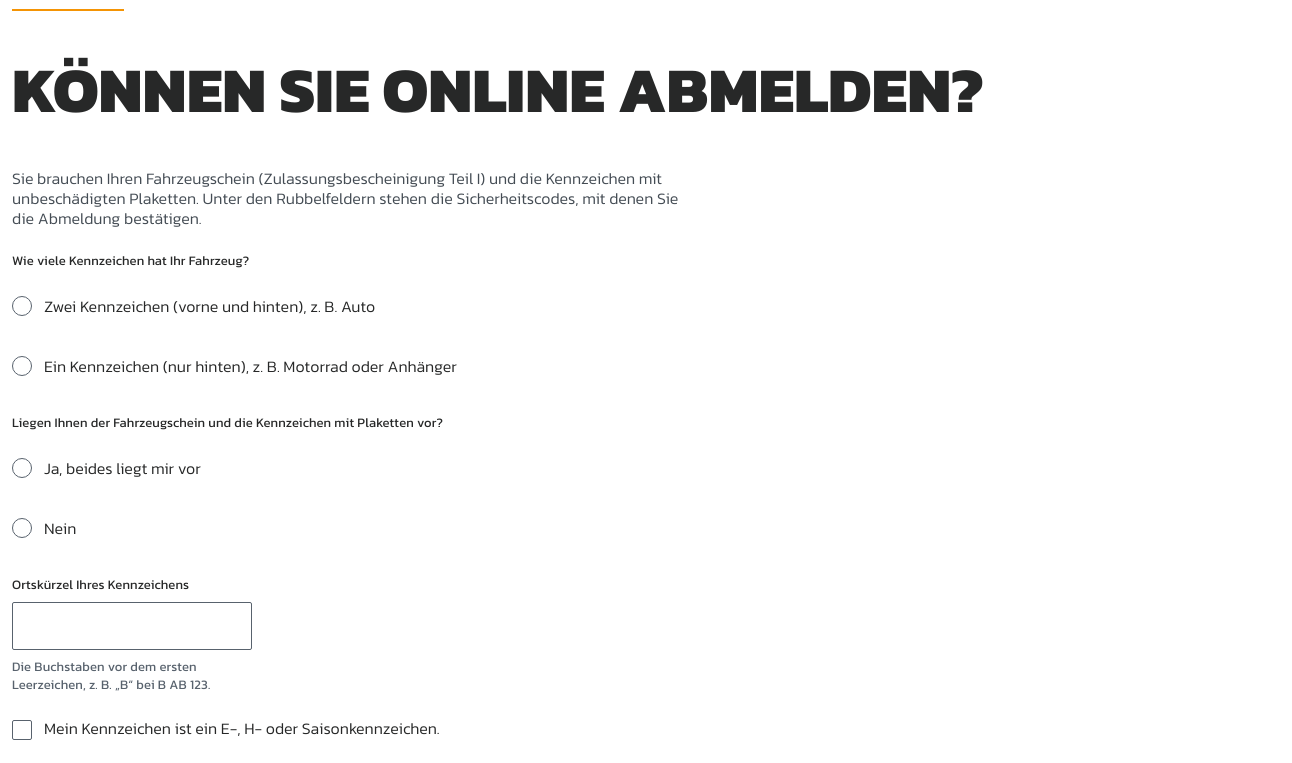
Test: de-registration funnel › eligibility › J11, a special plate › does not stop the customer: it is a warning, not a gate
Click the 1st radio button named "Zwei Kennzeichen" at (22, 306), box [12, 296, 32, 316]
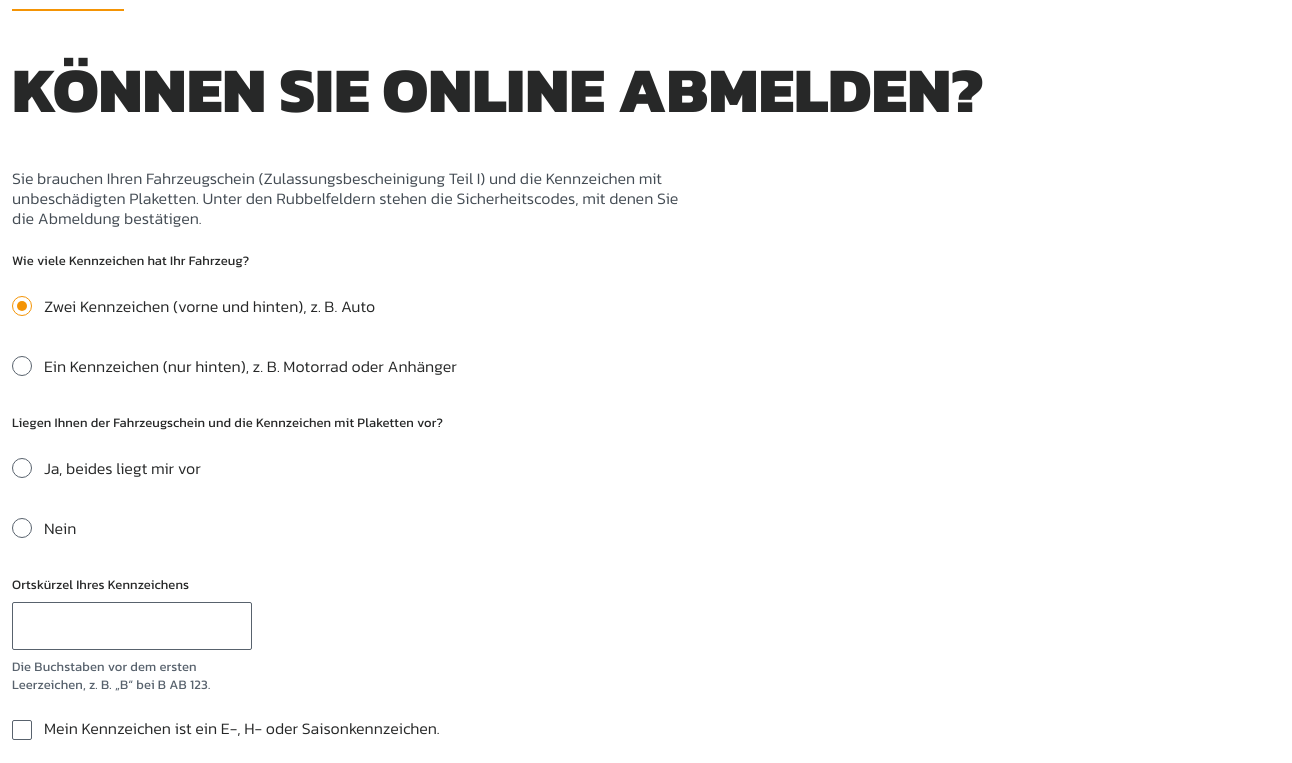
Click the radio button named "Ja, beides liegt mir vor" next to "Ja, beides liegt mir vor" at (22, 468), box [12, 458, 32, 478]
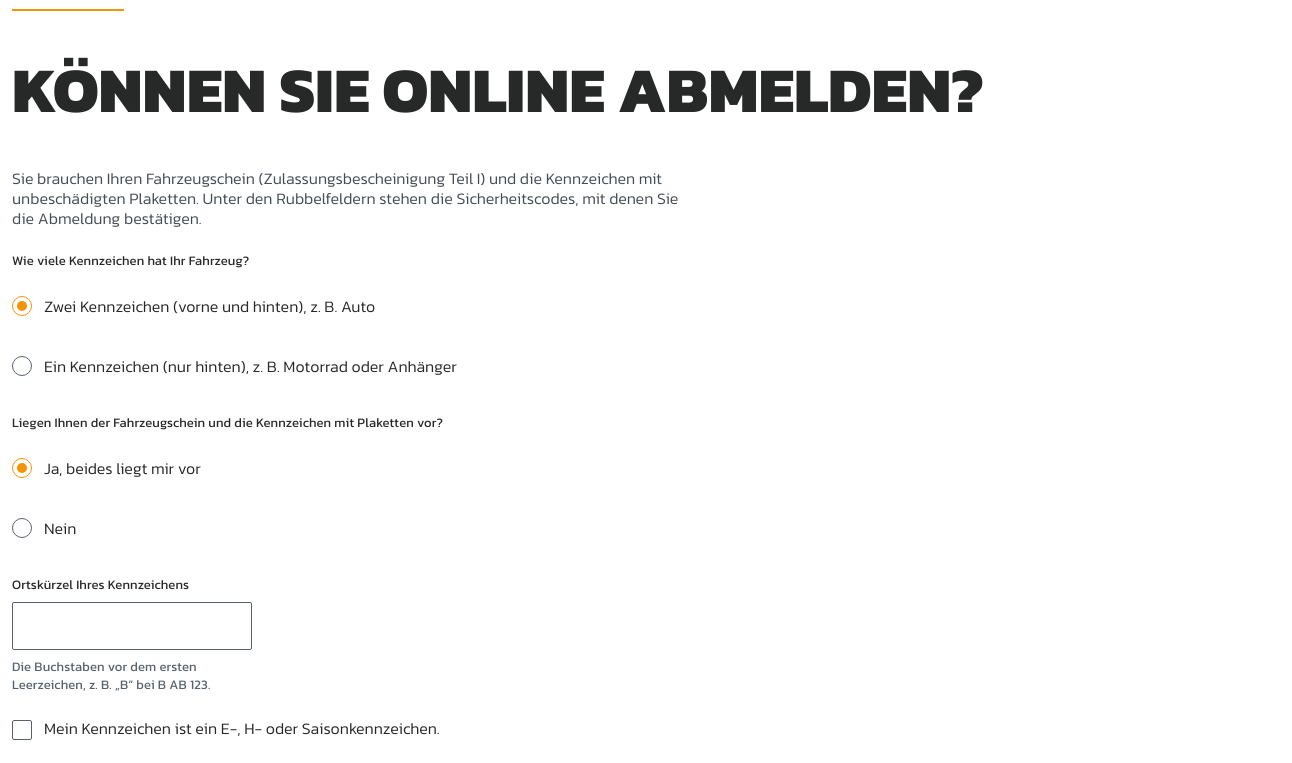
Type "AAA" into the field labelled "Ortskürzel Ihres Kennzeichens" at (132, 626), box [12, 602, 252, 650]
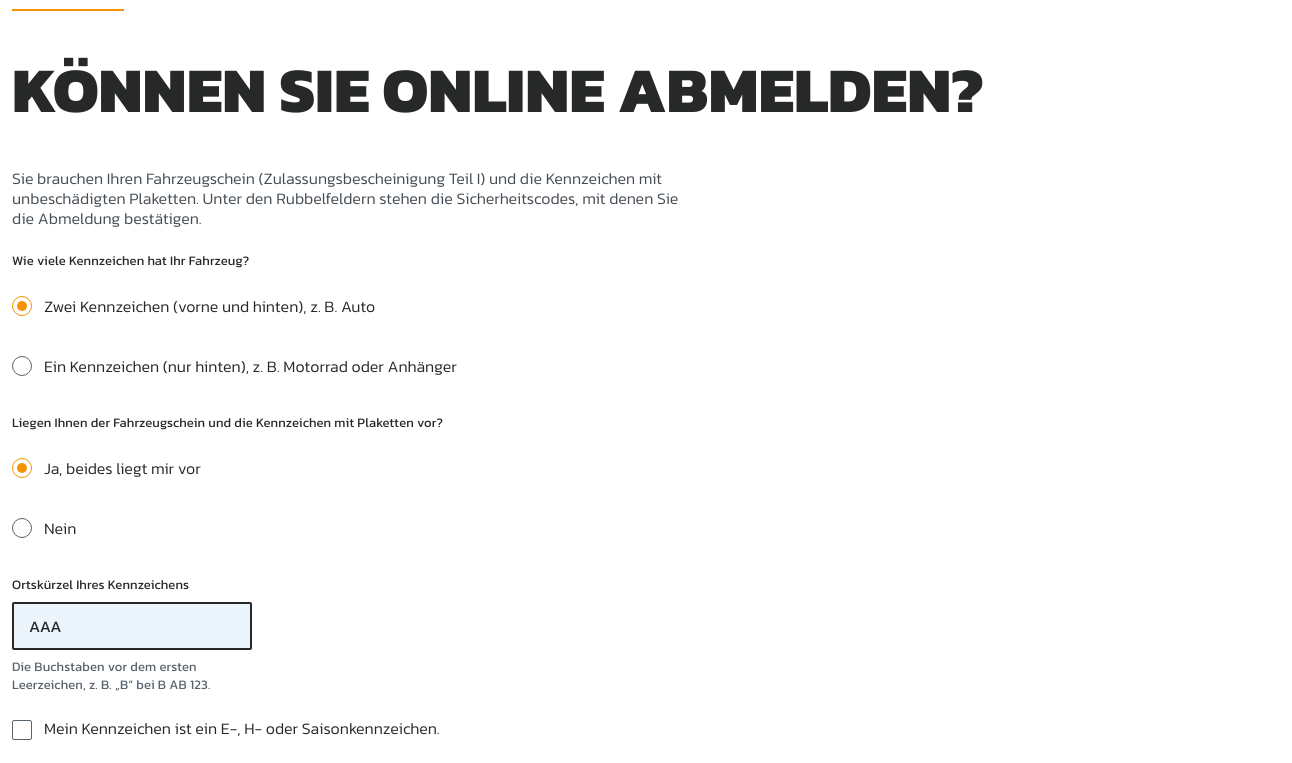
Click the checkbox named "E-, H- oder Saisonkennzeichen" at (22, 730), box [12, 720, 32, 740]
(page scrolled)
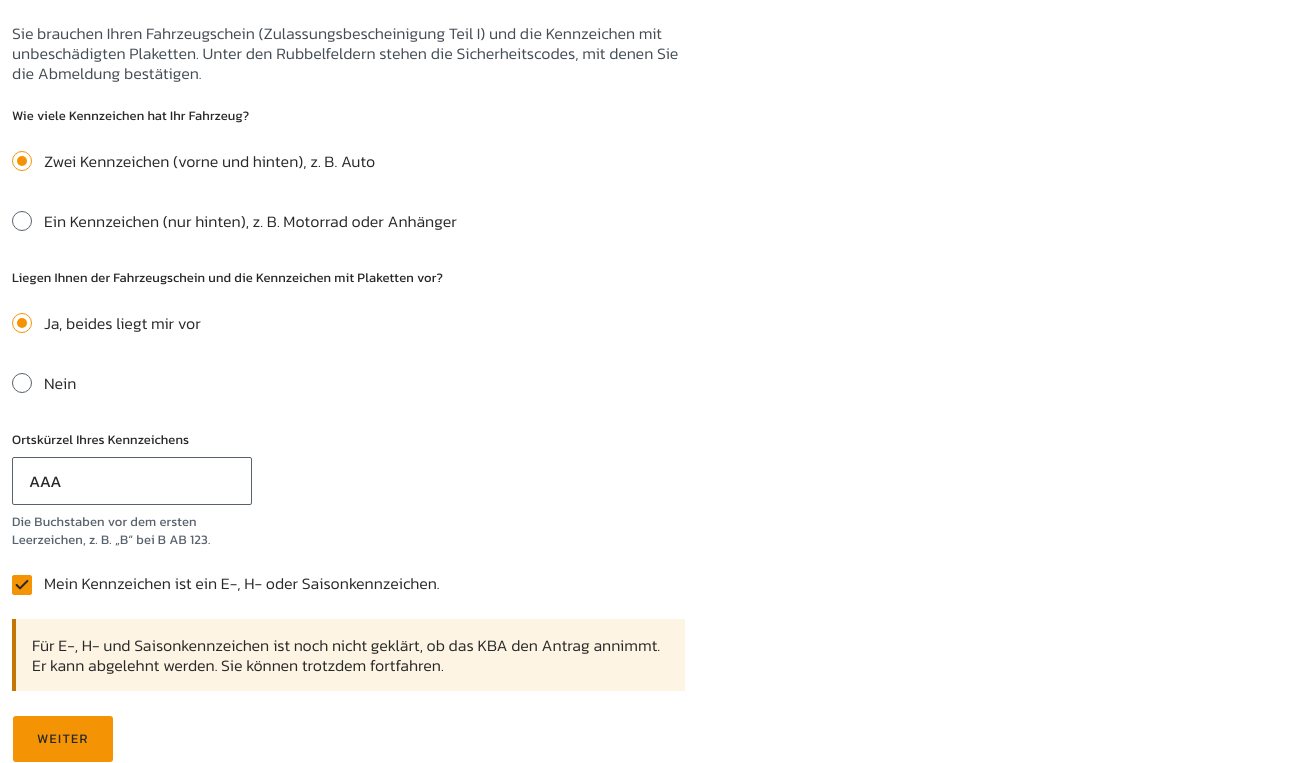
Click the button "Weiter" at (63, 739), box [12, 715, 114, 762]
(page scrolled)
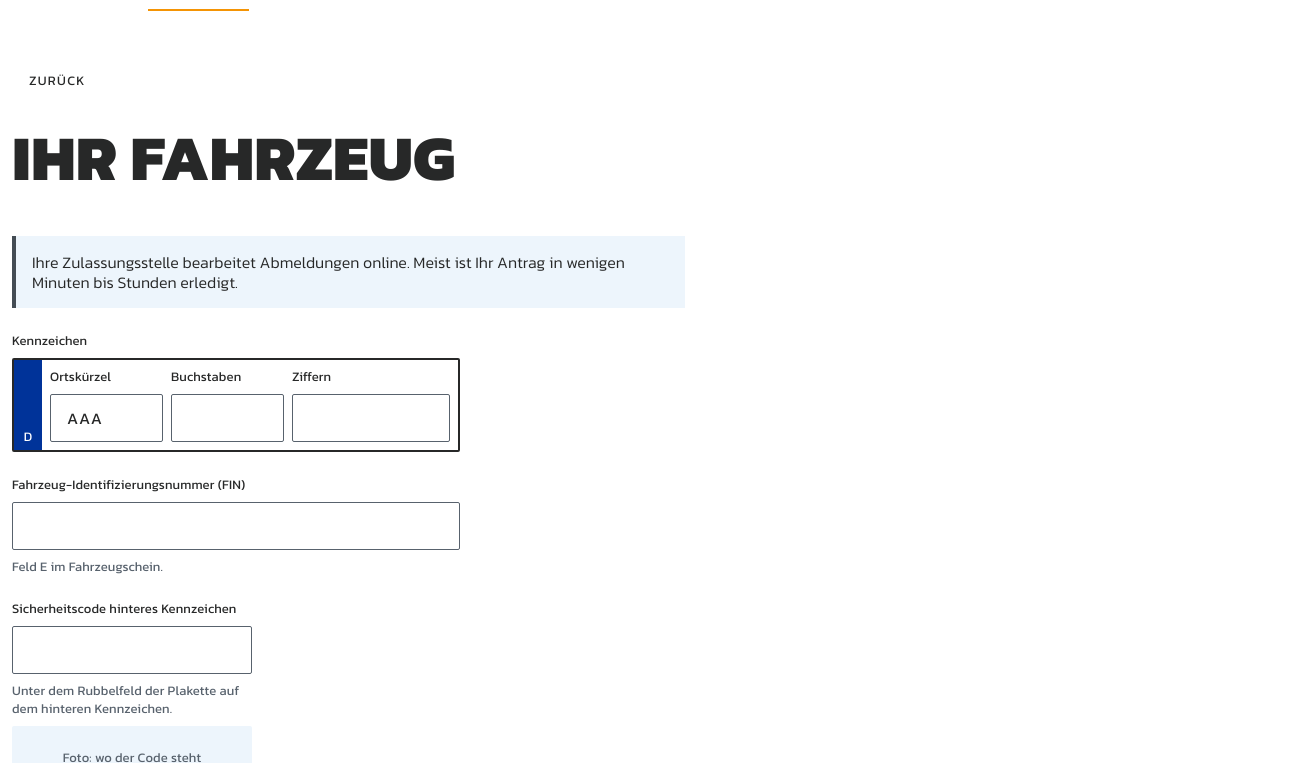
Result: the heading reads "Ihr Fahrzeug" at [12, 110, 455, 205]
